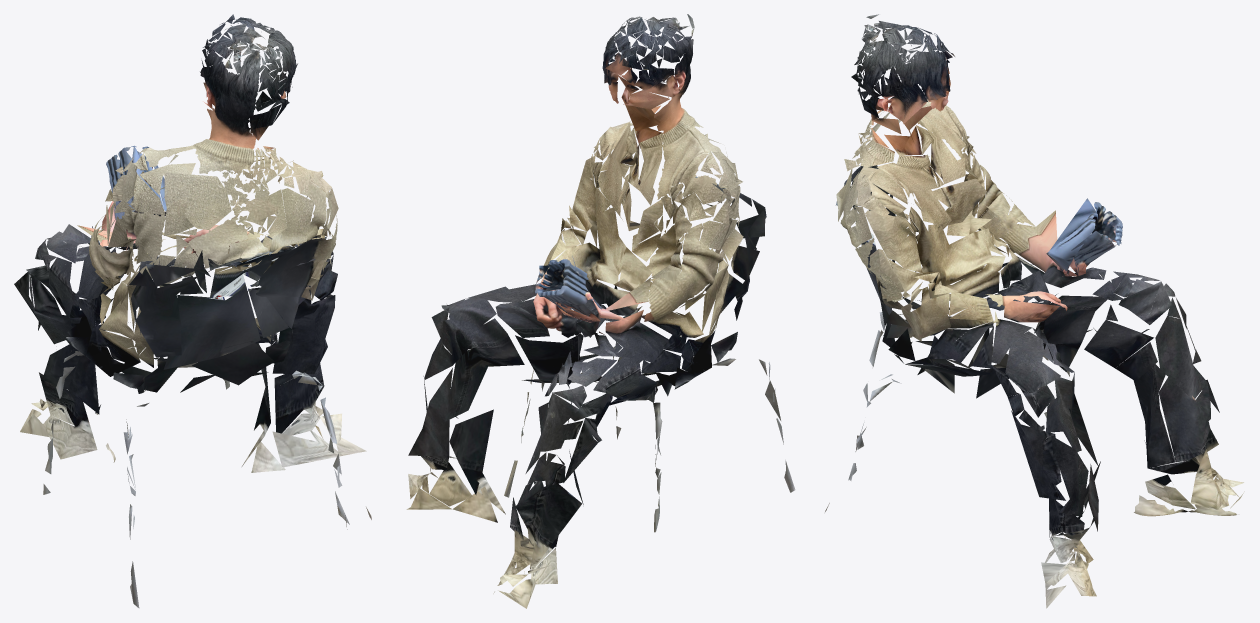
Rendered from newkorean5.glb.
3 views of the same model, side by side, from view 1: azimuth 30°, elevation 25°; view 2: azimuth 150°, elevation 25°; view 3: azimuth 270°, elevation 25° (orthographic). The views are drawn at different scales.
Parts seen in each view (by area): view 1: Object_4, Object_5; view 2: Object_4, Object_5; view 3: Object_4, Object_5.
Boxes of the visible parts, box(x1,y1,x2,y2) form: Object_4: box(14, 14, 371, 608); Object_5: box(89, 30, 337, 462); Object_4: box(406, 14, 795, 608); Object_5: box(493, 16, 740, 593); Object_4: box(825, 14, 1244, 608); Object_5: box(840, 30, 1236, 516).
Size of the model in its own units: 1.34 by 2.02 by 1.56.
1 material, 1 textured.
